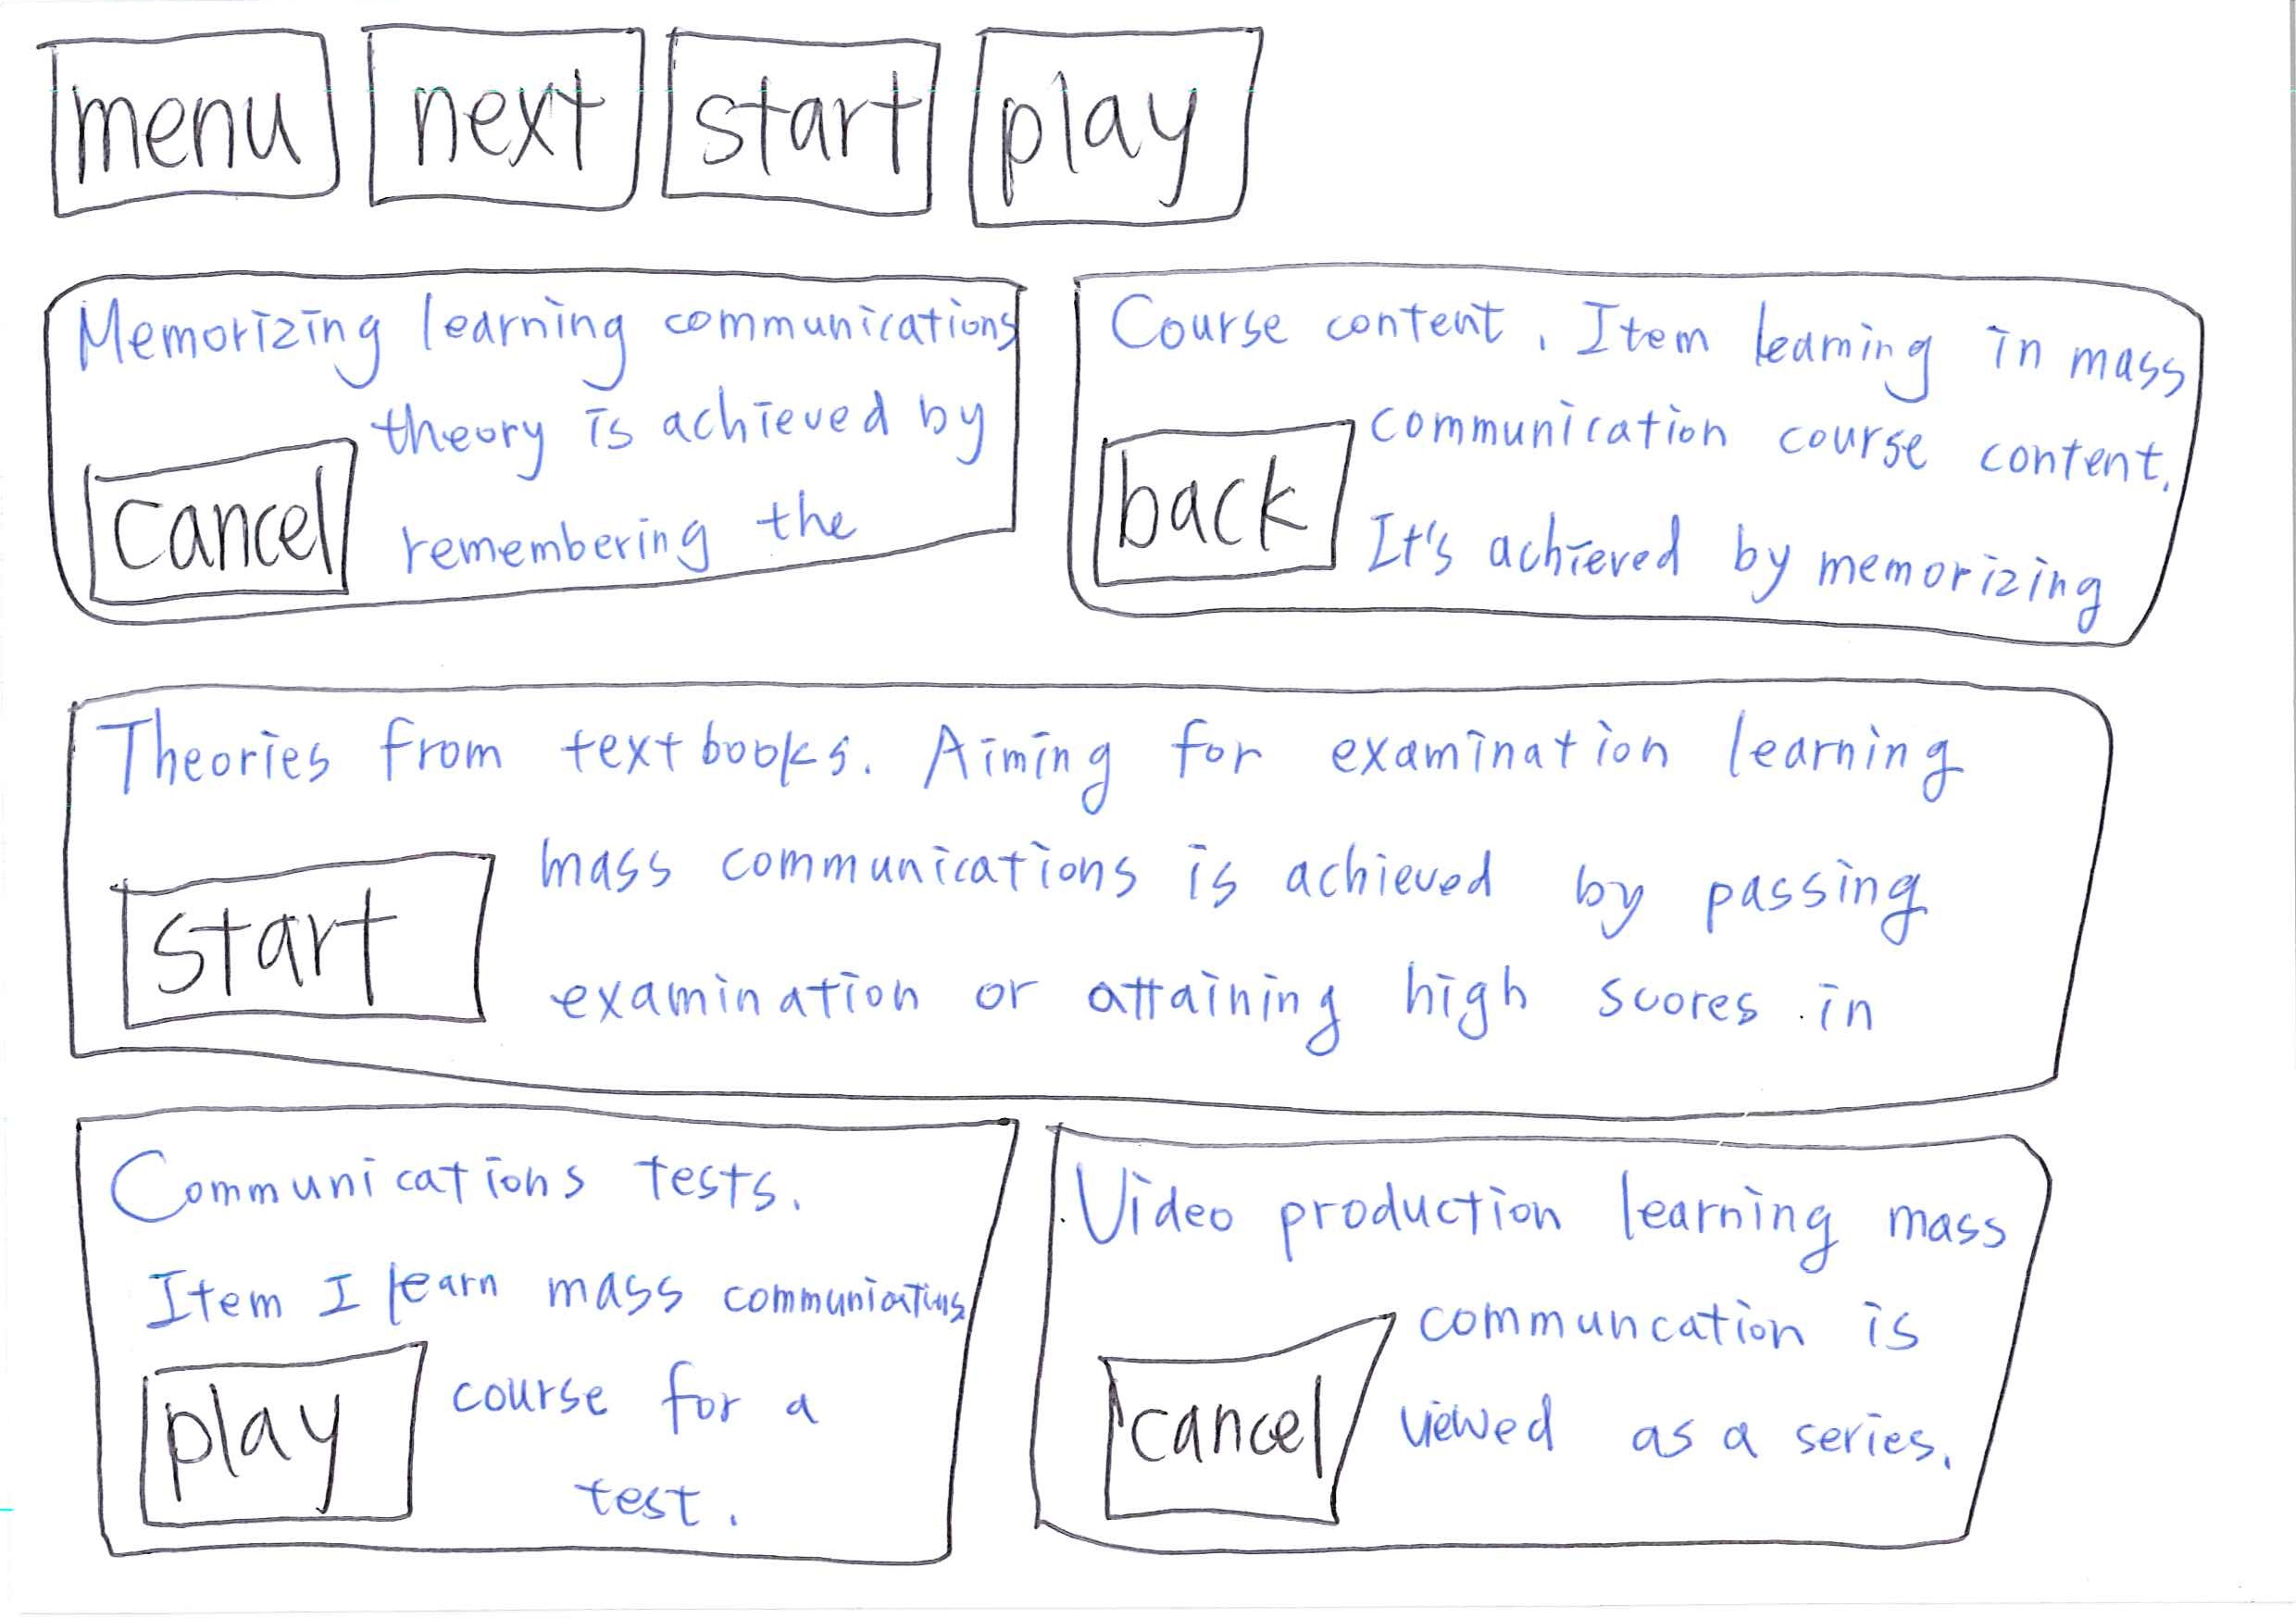back: (1072, 396, 1366, 602)
cancel: (1067, 1271, 1417, 1548), (56, 410, 378, 611)
double: (1039, 231, 2296, 660), (998, 1096, 2105, 1579), (19, 1091, 1028, 1583), (7, 238, 1044, 636)
menu: (28, 23, 349, 222)
next: (349, 12, 659, 228)
play: (951, 9, 1301, 242), (121, 1331, 438, 1539)
row: (2, 1073, 2296, 1597), (14, 254, 2296, 685), (14, 672, 2296, 1103), (14, 14, 2296, 261)
single: (12, 662, 2249, 1140)
small-title: (126, 693, 2004, 823), (1123, 285, 2147, 424), (1068, 1166, 2046, 1277), (110, 1135, 818, 1259), (82, 284, 1005, 369)
start: (98, 818, 517, 1056), (655, 2, 960, 240)
text: (550, 802, 1923, 1063), (1378, 390, 2149, 590), (1426, 1254, 1939, 1481), (378, 369, 990, 559), (464, 1285, 912, 1529), (114, 1233, 946, 1324)
